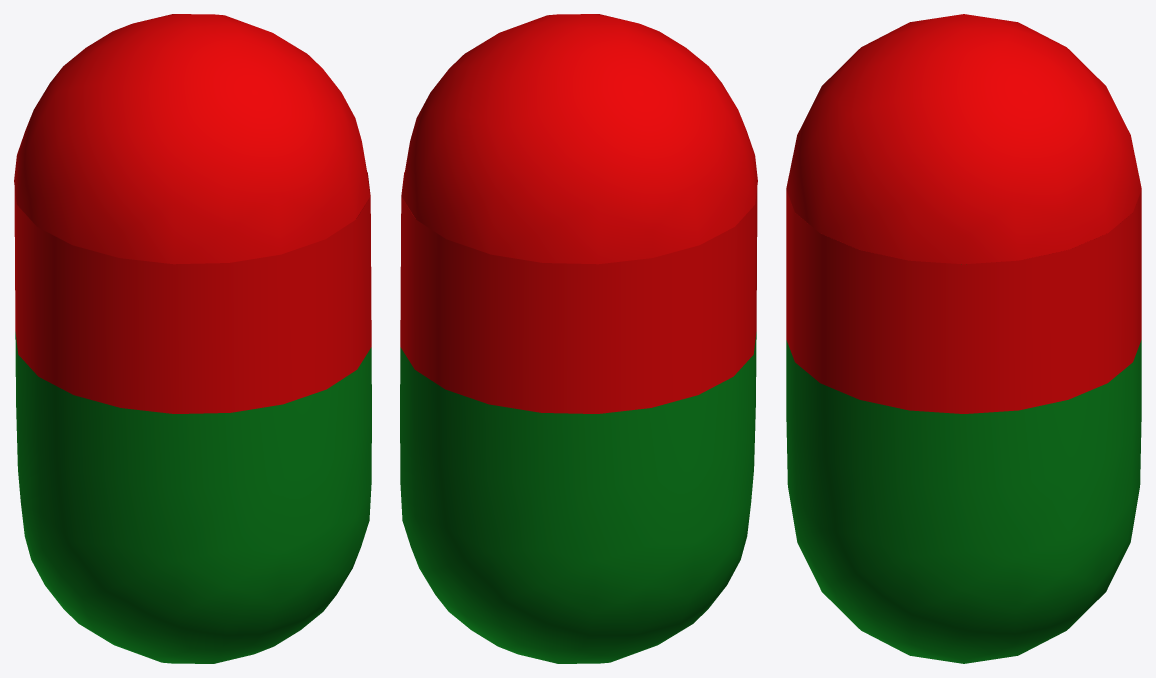
Rendered from Pills.fbx.
The picture shows the model from 3 angles, left to right: view 1: azimuth 30°, elevation 25°; view 2: azimuth 150°, elevation 25°; view 3: azimuth 270°, elevation 25°; orthographic projection.
Visible parts, largest first — view 1: Icosphere.001; view 2: Icosphere.001; view 3: Icosphere.001.
Part boxes in pixels (x1,y1,x2,y2): Icosphere.001: (14, 14, 371, 663); Icosphere.001: (400, 14, 757, 663); Icosphere.001: (786, 14, 1141, 663).
Bounding box in the file's own units: 188 × 359 × 187.
